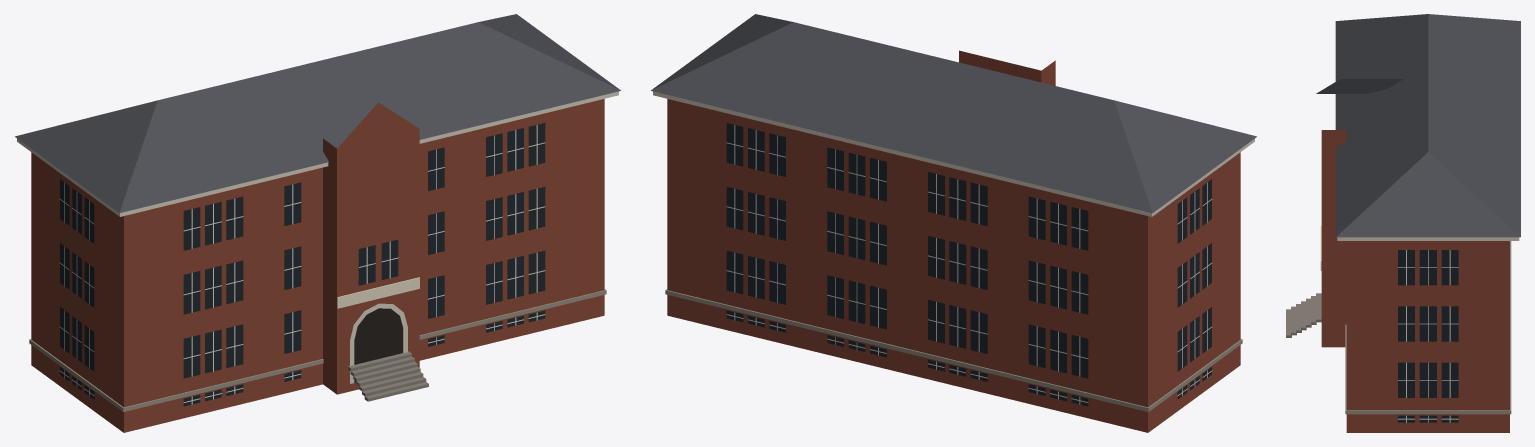
Rendered from shorter-college-tyree-hall-1913.glb.
The picture shows the model from 3 angles, left to right: view 1: azimuth 30°, elevation 25°; view 2: azimuth 150°, elevation 25°; view 3: azimuth 270°, elevation 25°; orthographic projection. The views are drawn at different scales.
Visible parts, largest first — view 1: kit-shorter-college-tyree-hall-1913; view 2: kit-shorter-college-tyree-hall-1913; view 3: kit-shorter-college-tyree-hall-1913.
Part boxes in pixels (box(x1,y1,x2,y2)): kit-shorter-college-tyree-hall-1913: box(15, 14, 620, 432); kit-shorter-college-tyree-hall-1913: box(651, 14, 1256, 432); kit-shorter-college-tyree-hall-1913: box(1286, 14, 1520, 432).
Bounding box in the file's own units: 32.9 × 17.77 × 15.09.
